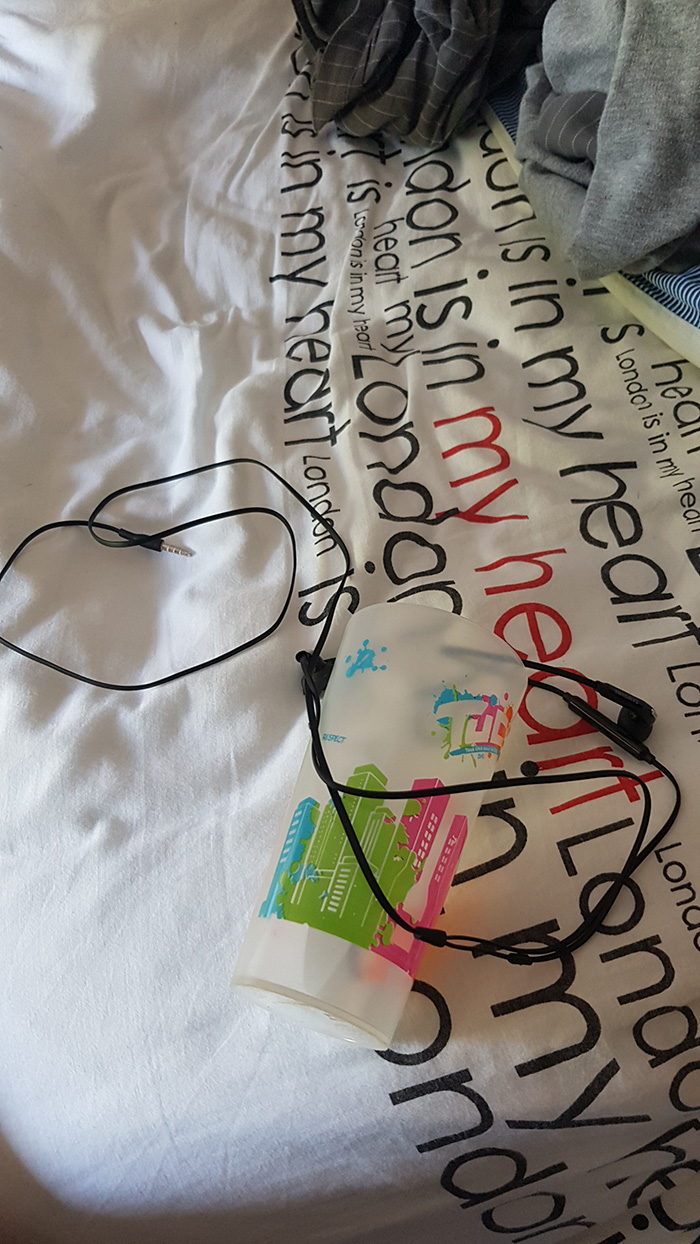ecocup: (228, 601, 531, 1048)
